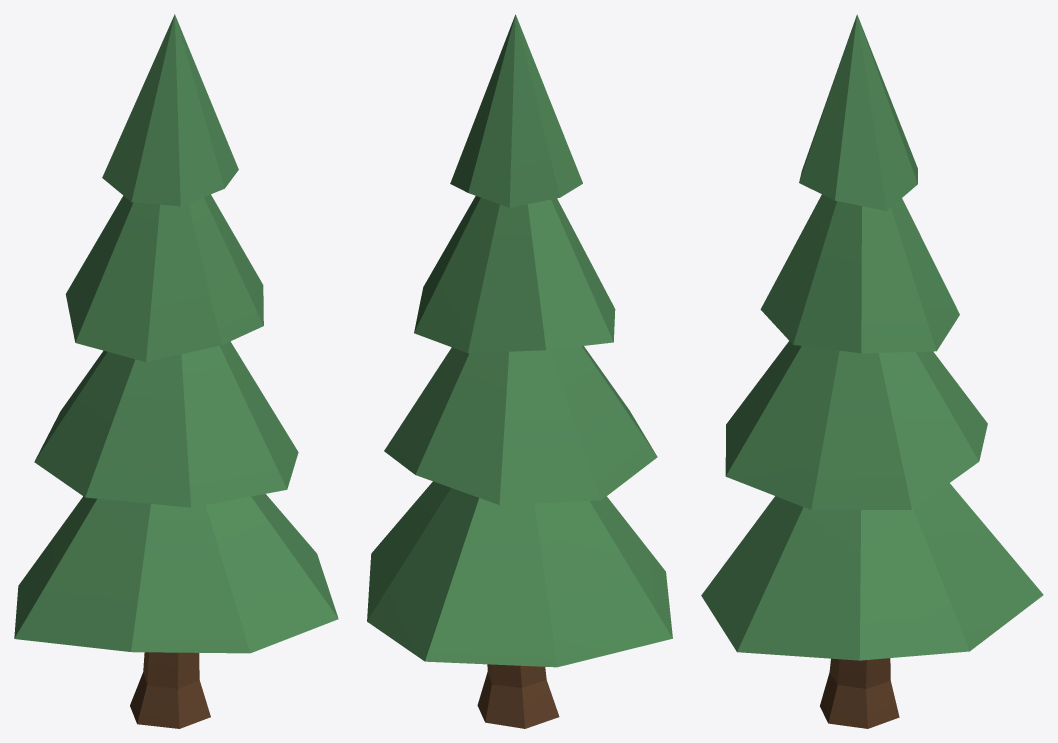
The model's file is pine.glb.
The picture shows the model from 3 angles, left to right: view 1: azimuth 30°, elevation 25°; view 2: azimuth 150°, elevation 25°; view 3: azimuth 270°, elevation 25°; orthographic projection.
Parts seen in each view (by area): view 1: pine; view 2: pine; view 3: pine.
Part boxes in pixels (left/top/right/bottom): pine: left=14, top=14, right=338, bottom=728; pine: left=367, top=14, right=672, bottom=728; pine: left=701, top=14, right=1043, bottom=728.
Size of the model in its own units: 2.68 by 5.9 by 2.62.
